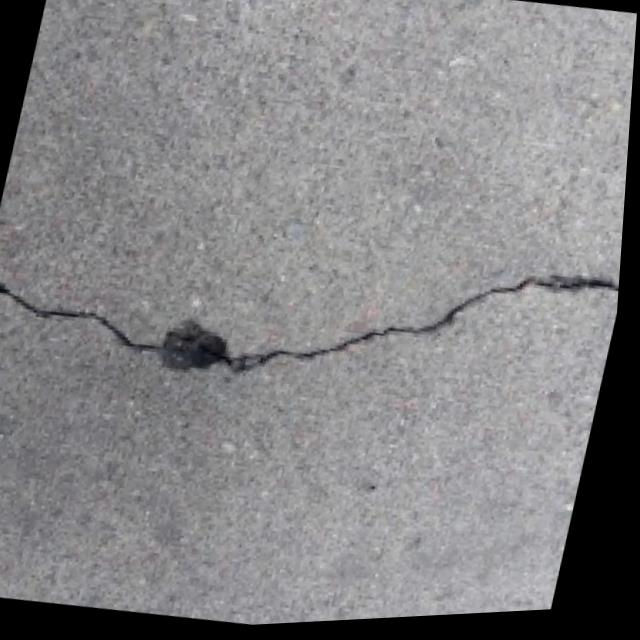Crack: (0, 147, 631, 471)
